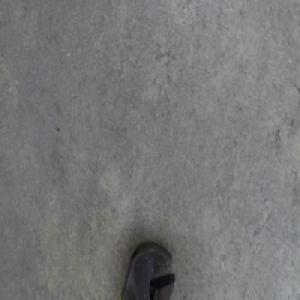AdjustableWrench: (119, 243, 176, 298)
